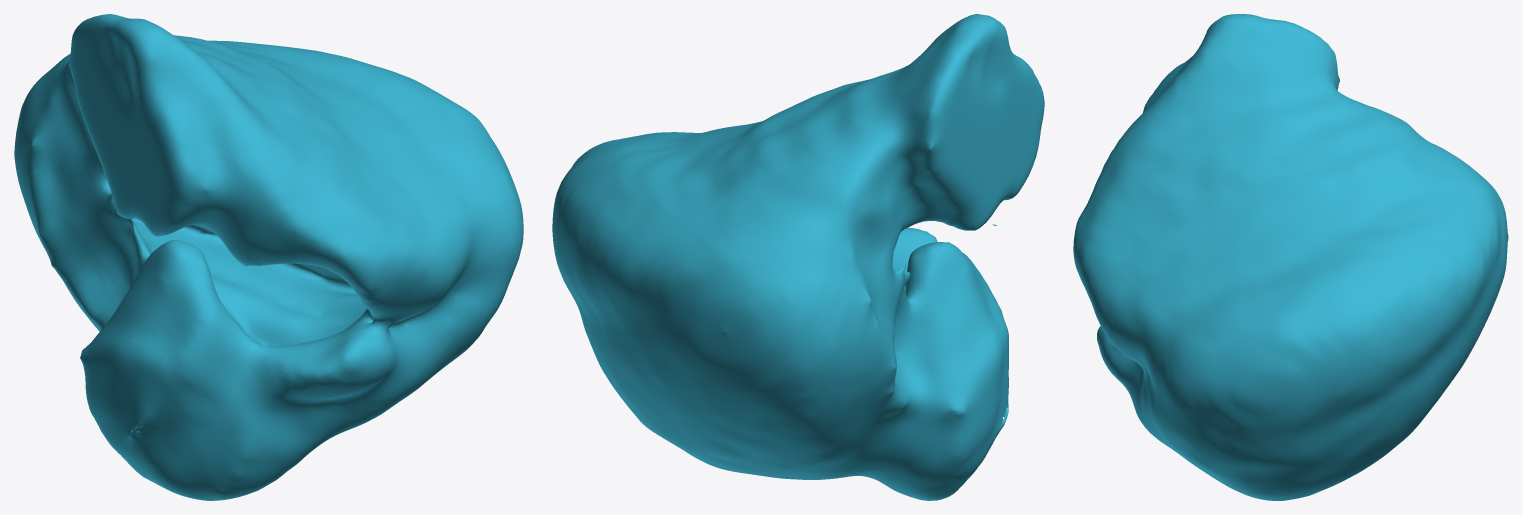
File: cerebellum_hemisphere_right.glb
3 renders of one model, left to right at view 1: azimuth 30°, elevation 25°; view 2: azimuth 150°, elevation 25°; view 3: azimuth 270°, elevation 25°, orthographic. The views are drawn at different scales.
Visible parts, largest first — view 1: Hemisferio Cerebeloso Derecho; view 2: Hemisferio Cerebeloso Derecho; view 3: Hemisferio Cerebeloso Derecho.
Part boxes in pixels (<box>): Hemisferio Cerebeloso Derecho: <box>14,14,523,500</box>; Hemisferio Cerebeloso Derecho: <box>552,14,1044,500</box>; Hemisferio Cerebeloso Derecho: <box>1073,14,1508,500</box>.
Size of the model in its own units: 1.99 by 2.3 by 2.21.
